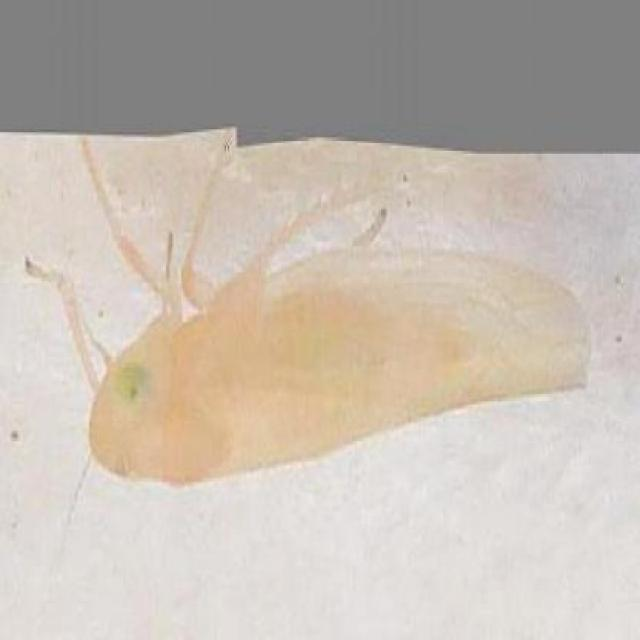green-leafhopper: (83, 266, 594, 483)
